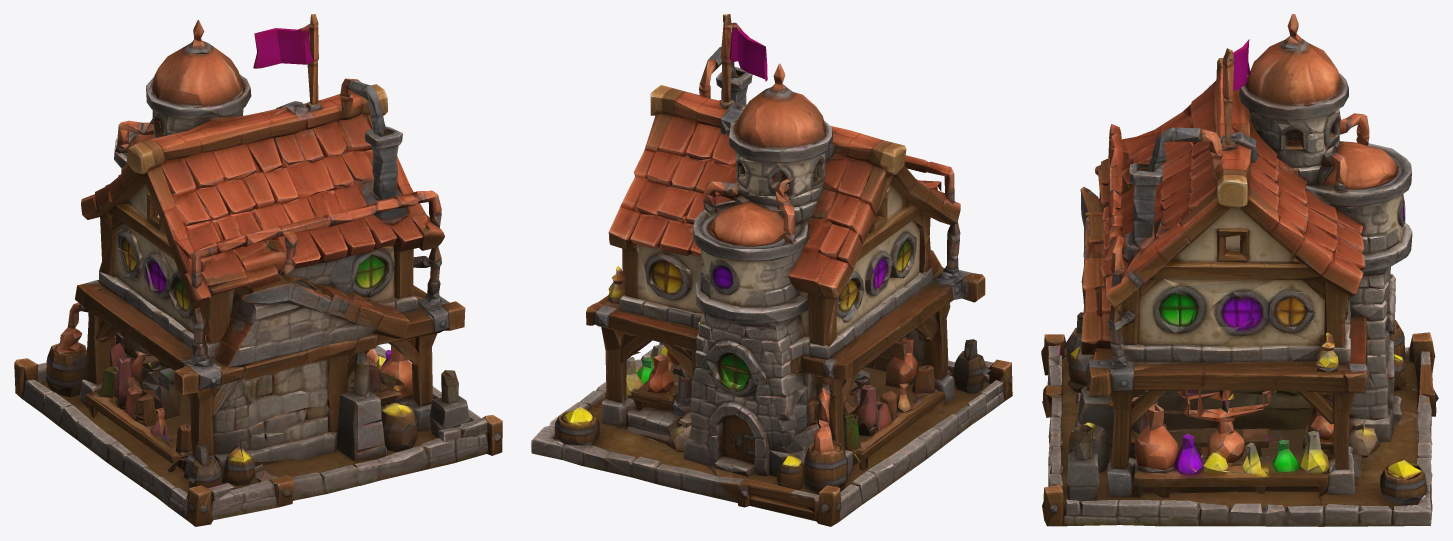
File: alchemist2.glb
3 renders of one model, left to right at view 1: azimuth 30°, elevation 25°; view 2: azimuth 150°, elevation 25°; view 3: azimuth 270°, elevation 25°, orthographic. The views are drawn at different scales.
Visible parts, largest first — view 1: Mesh_0; view 2: Mesh_0; view 3: Mesh_0.
Part boxes in pixels (x1,y1,x2,y2): Mesh_0: [14, 14, 502, 526]; Mesh_0: [531, 14, 1012, 526]; Mesh_0: [1041, 14, 1438, 526].
Bounding box in the file's own units: 1.55 × 1.9 × 1.61.
Materials: 1 (1 with a texture image).
